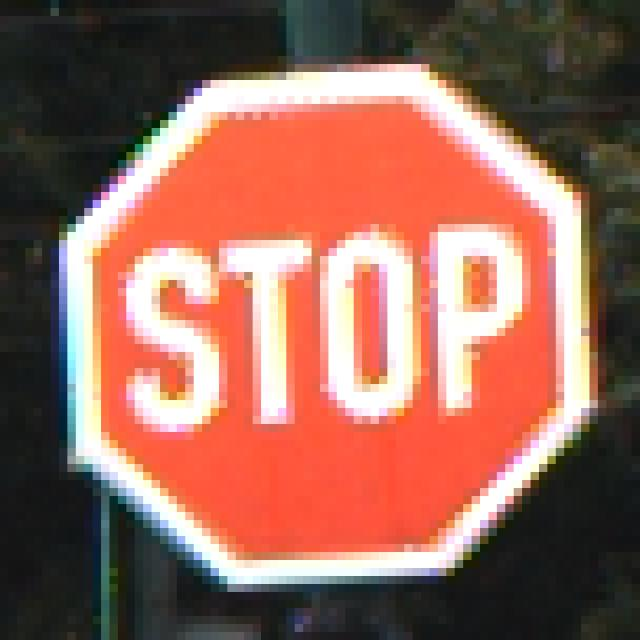STOP: (52, 65, 582, 585)
